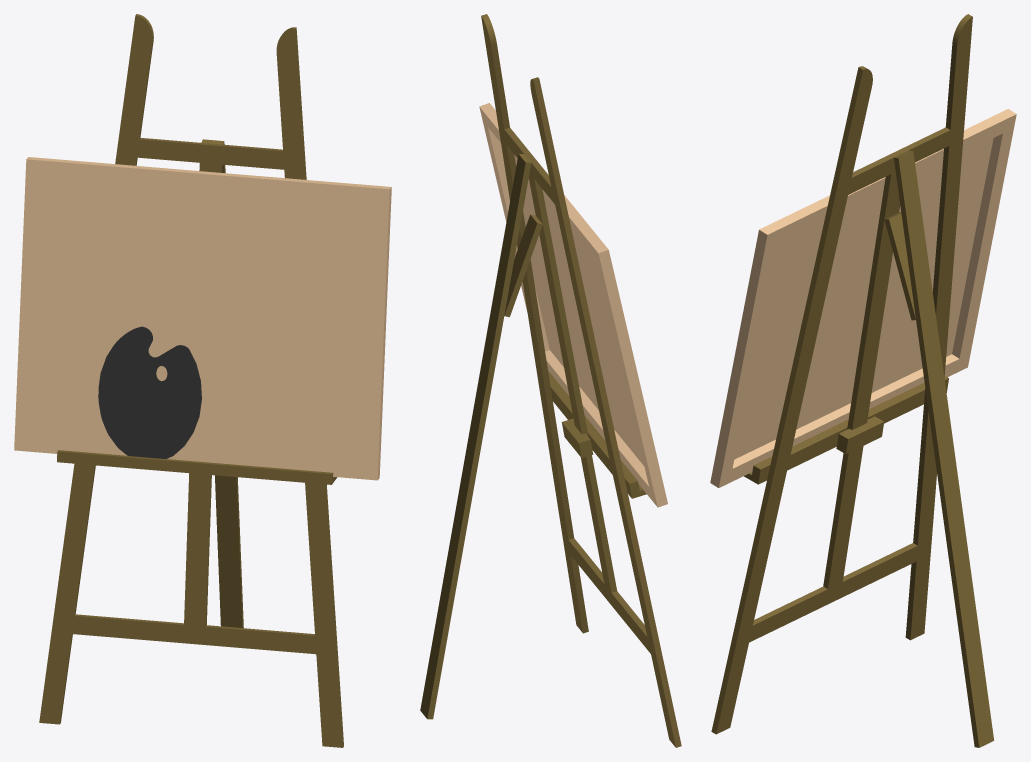
File: paintingRack.FBX
3 views of the same model, side by side, from view 1: azimuth 30°, elevation 25°; view 2: azimuth 150°, elevation 25°; view 3: azimuth 270°, elevation 25° (orthographic). The views are drawn at different scales.
Parts seen in each view (by area): view 1: Group_004, Group_002, Group_007, Group_003, Group_005; view 2: Group_002, Group_004, Group_003, Group_005, Group_001, Group_006; view 3: Group_004, Group_002, Group_003, Group_005, Group_001, Group_006.
Boxes of the visible parts, <box> form: Group_004: <box>14,157,391,480</box>; Group_002: <box>39,14,343,747</box>; Group_007: <box>98,326,201,458</box>; Group_003: <box>201,139,243,628</box>; Group_005: <box>57,450,336,484</box>; Group_002: <box>481,14,681,747</box>; Group_004: <box>479,103,667,507</box>; Group_003: <box>420,154,531,719</box>; Group_005: <box>548,370,646,498</box>; Group_001: <box>504,214,542,317</box>; Group_006: <box>561,418,593,457</box>; Group_004: <box>710,109,1016,487</box>; Group_002: <box>711,14,972,734</box>; Group_003: <box>894,150,994,747</box>; Group_005: <box>744,376,948,484</box>; Group_001: <box>884,212,915,320</box>; Group_006: <box>836,416,884,453</box>.
Size of the model in its own units: 79.73 by 178 by 72.76.
